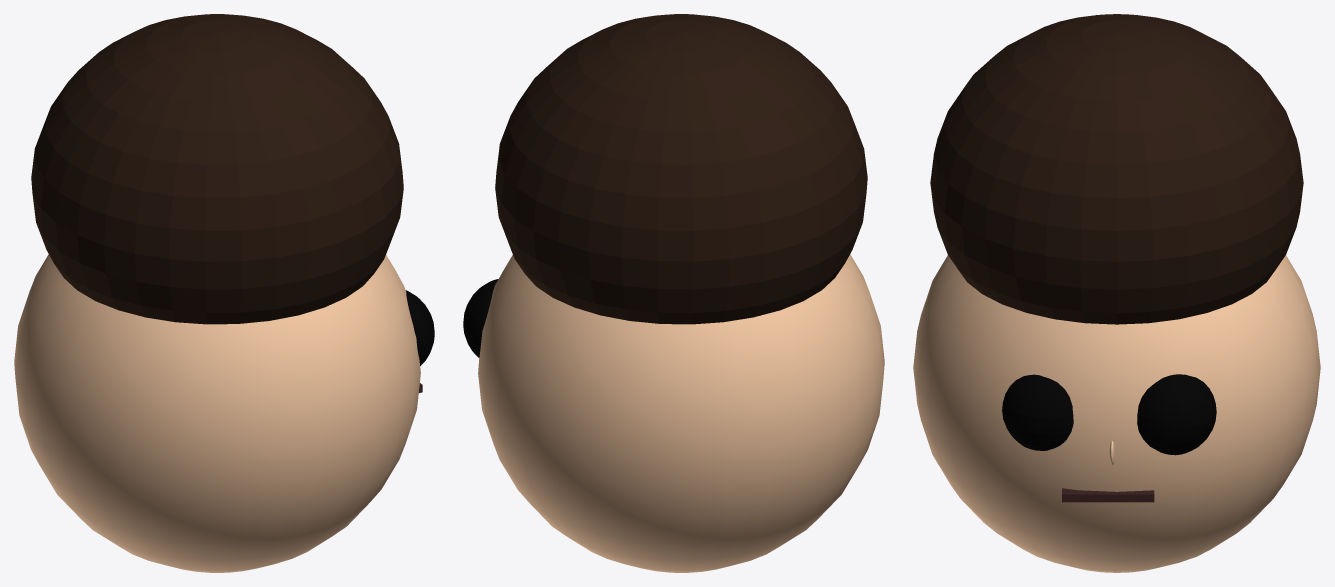
File: cabeca.glb
The picture shows the model from 3 angles, left to right: view 1: azimuth 30°, elevation 25°; view 2: azimuth 150°, elevation 25°; view 3: azimuth 270°, elevation 25°; orthographic projection.
Parts seen in each view (by area): view 1: cabelo, cabeca, olhoE; view 2: cabelo, cabeca, olhoD; view 3: cabelo, cabeca, olhoD, olhoE, boca.
Part boxes in pixels (x1,y1,x2,y2): cabelo: (31,14,403,324); cabeca: (14,254,420,572); olhoE: (405,290,434,365); cabelo: (495,14,867,324); cabeca: (478,254,884,572); olhoD: (463,279,498,357); cabelo: (930,14,1303,324); cabeca: (913,255,1320,572); olhoD: (1137,374,1216,455); olhoE: (1002,374,1073,450); boca: (1062,488,1154,502).
Size of the model in its own units: 9.03 by 12.45 by 8.82.
